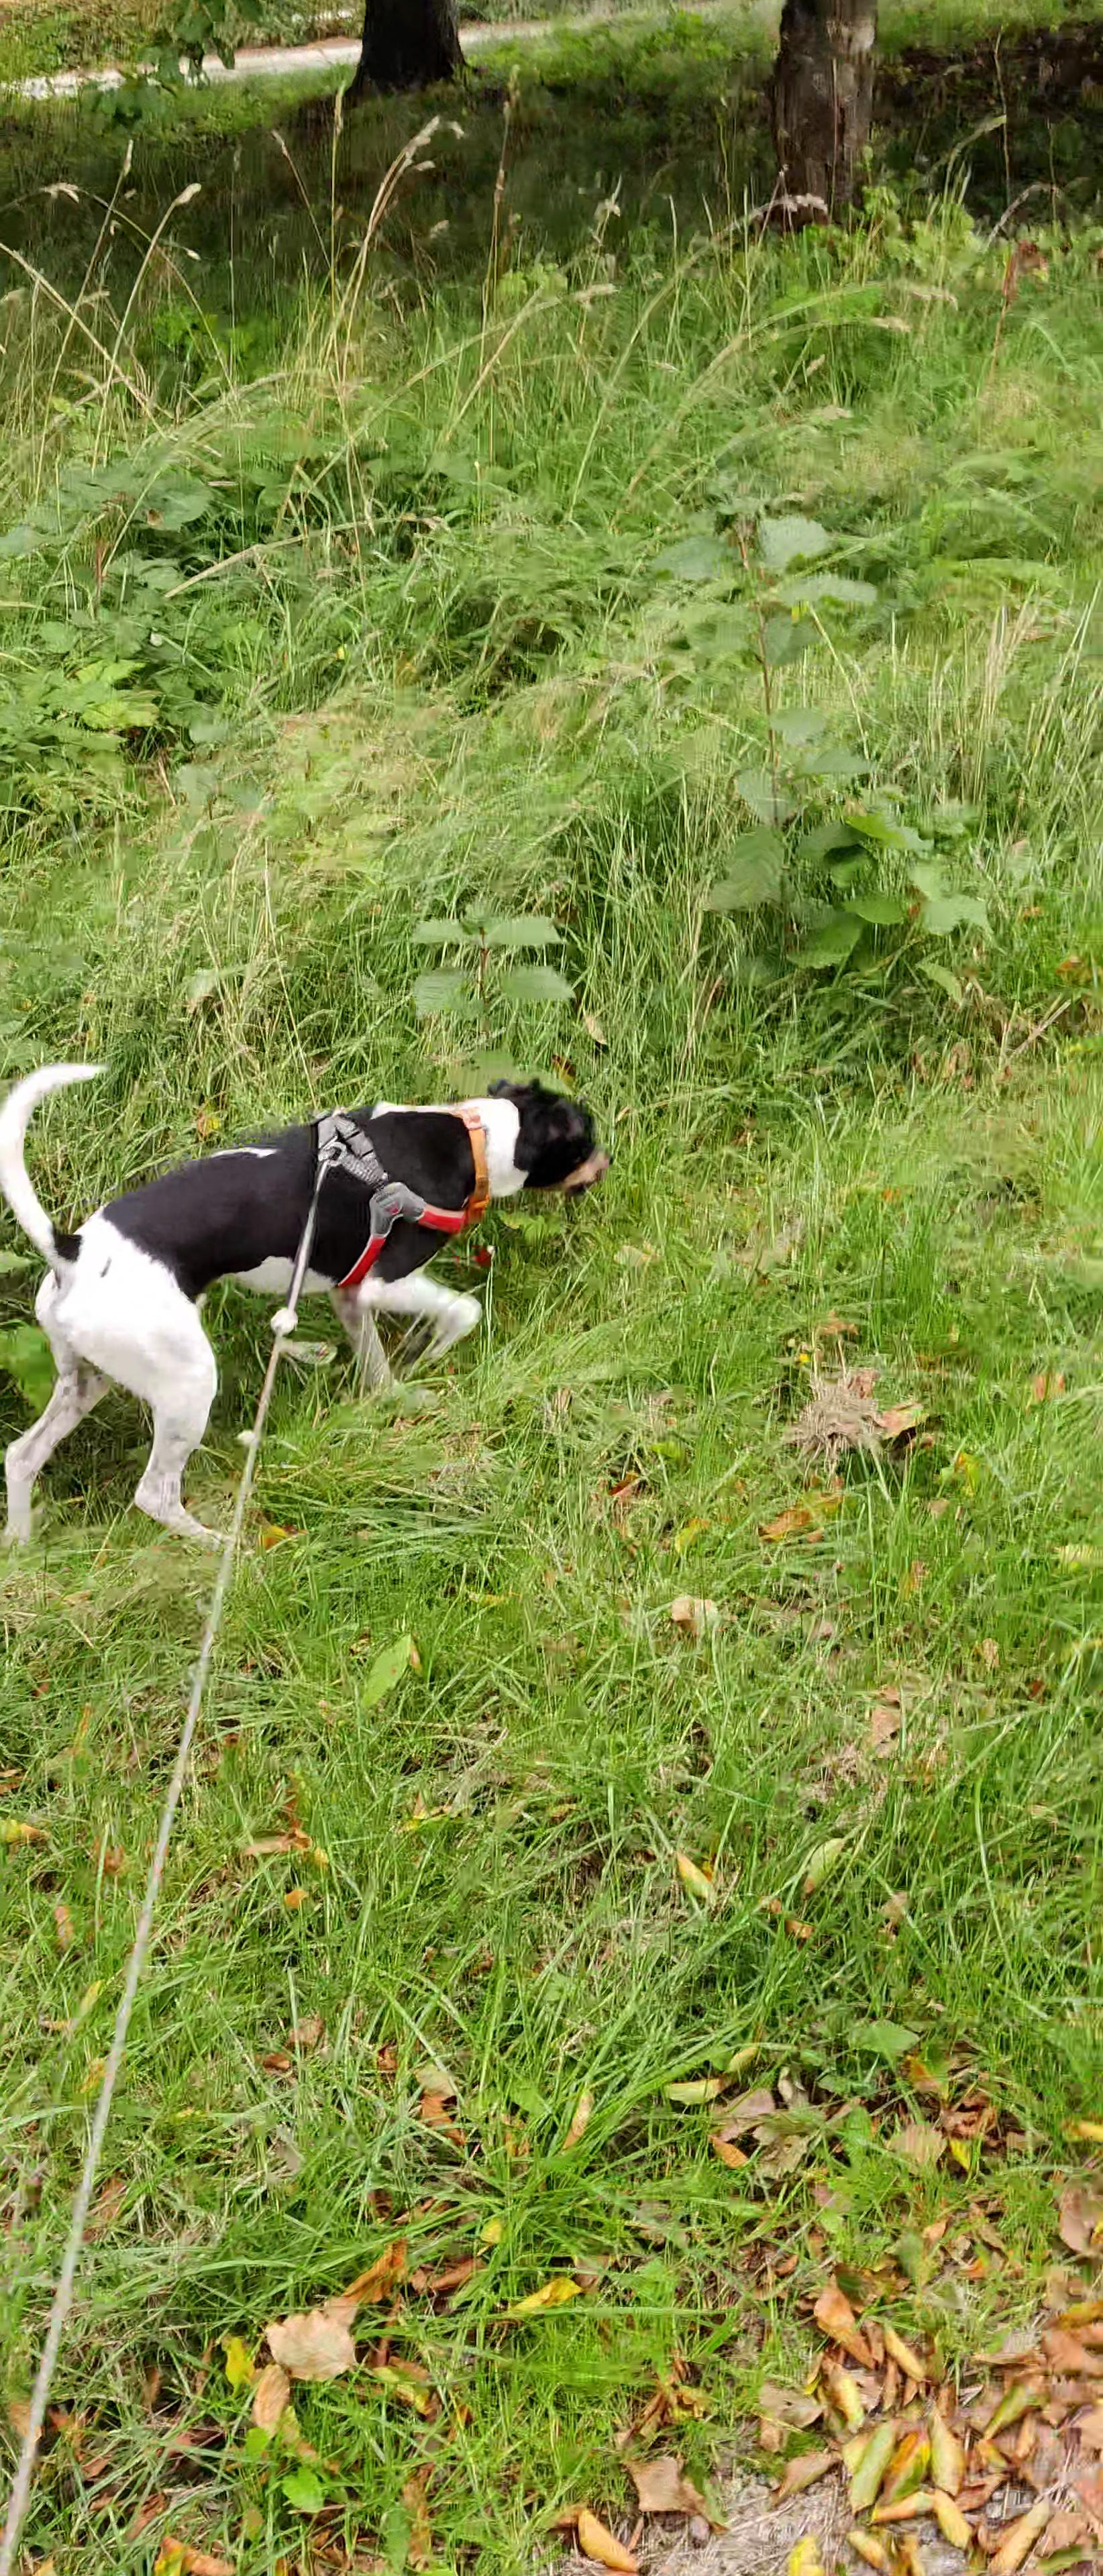Dog: (0, 1035, 625, 1566)
